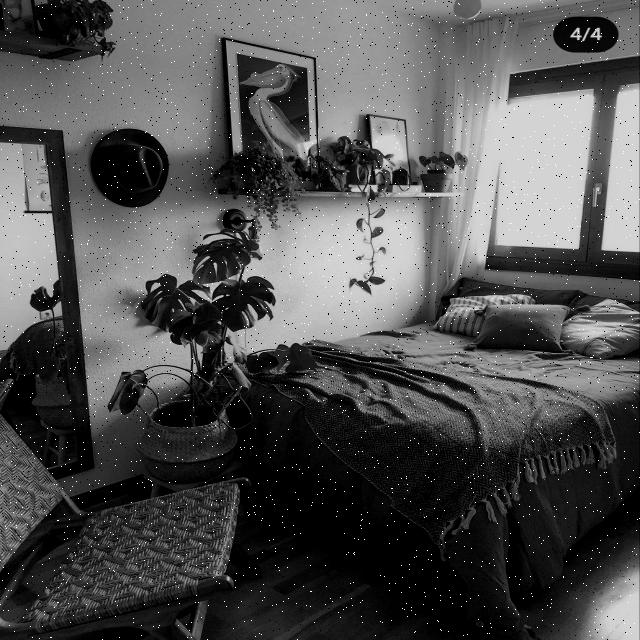bed: (264, 277, 640, 504)
